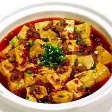mapodoufu: (1, 17, 112, 103)
